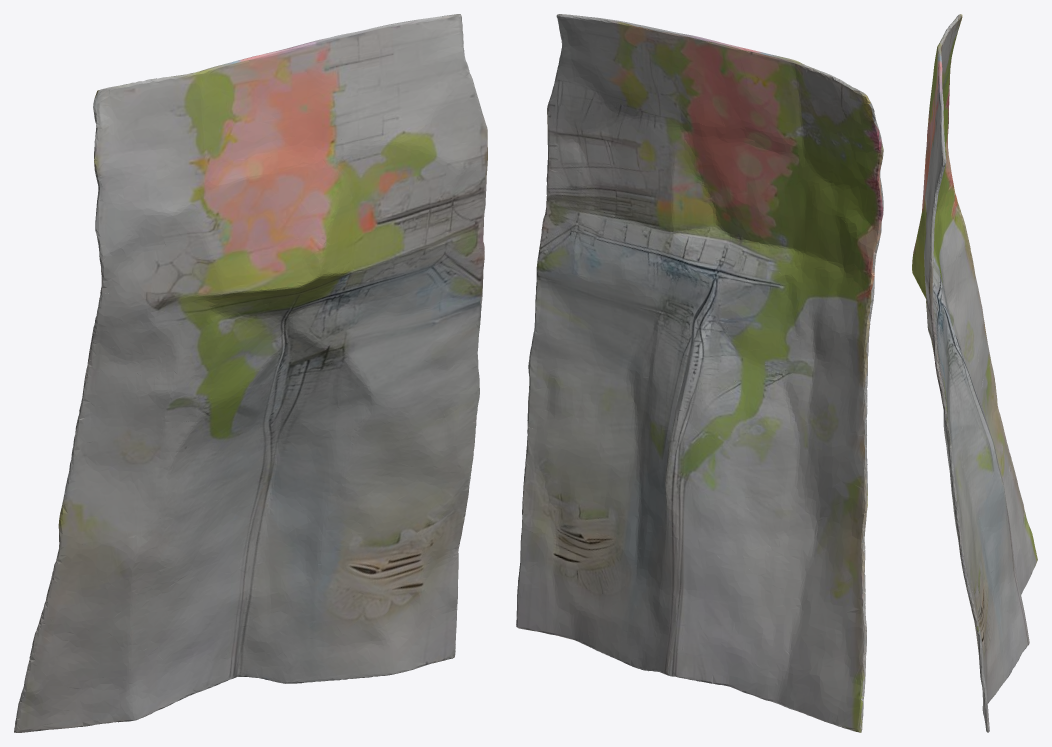
The model's file is jeans_textured.glb.
3 views of the same model, side by side, from view 1: azimuth 30°, elevation 25°; view 2: azimuth 150°, elevation 25°; view 3: azimuth 270°, elevation 25° (orthographic). The views are drawn at different scales.
Parts seen in each view (by area): view 1: textured; view 2: textured; view 3: textured.
Boxes of the visible parts, bbox=[...] form: textured: bbox=[14, 14, 487, 732]; textured: bbox=[516, 14, 883, 732]; textured: bbox=[912, 14, 1037, 732].
Bounding box in the file's own units: 1.28 × 1.99 × 0.3967.
Materials: 1 (1 with a texture image).
